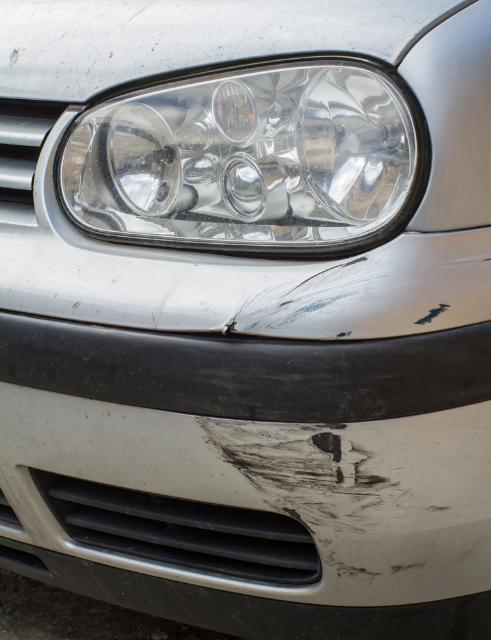scratch: (193, 402, 491, 587), (215, 251, 491, 340)
